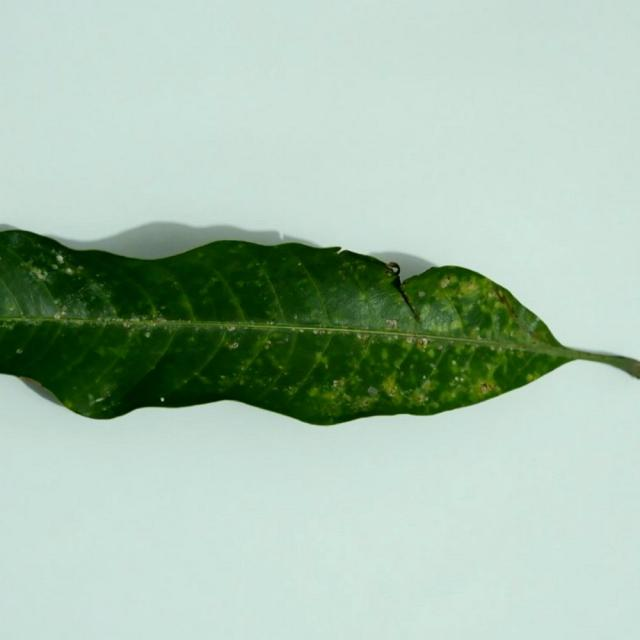Mango: (0, 230, 639, 425)
Powdery_Mildew: (383, 372, 409, 400), (519, 312, 540, 334), (311, 351, 331, 372), (459, 279, 481, 295), (440, 387, 462, 403), (319, 388, 339, 402), (267, 333, 290, 345), (354, 395, 374, 408), (479, 382, 493, 394), (32, 268, 46, 280), (420, 380, 433, 392), (63, 399, 77, 410), (416, 338, 429, 349), (90, 396, 105, 405), (385, 319, 398, 329), (440, 277, 451, 288), (152, 311, 164, 320), (308, 388, 320, 397), (367, 386, 379, 395), (526, 372, 536, 382), (332, 379, 343, 388), (470, 326, 480, 335), (497, 290, 505, 300), (356, 333, 367, 340), (74, 266, 83, 274), (56, 254, 64, 263), (229, 342, 238, 349), (316, 329, 326, 335), (295, 327, 305, 333), (123, 321, 131, 328), (287, 385, 295, 392), (66, 268, 74, 275), (509, 330, 516, 337), (87, 393, 94, 400), (418, 291, 426, 297), (228, 326, 236, 332), (60, 310, 68, 316), (407, 337, 413, 344), (16, 348, 23, 354), (144, 332, 151, 338), (454, 376, 461, 382), (54, 313, 60, 319), (105, 390, 111, 396), (264, 344, 270, 350), (490, 345, 496, 351), (497, 347, 503, 353), (279, 365, 285, 371), (451, 360, 457, 366), (249, 319, 256, 324), (180, 317, 187, 322), (8, 307, 14, 312), (220, 375, 225, 379), (298, 262, 302, 266)
